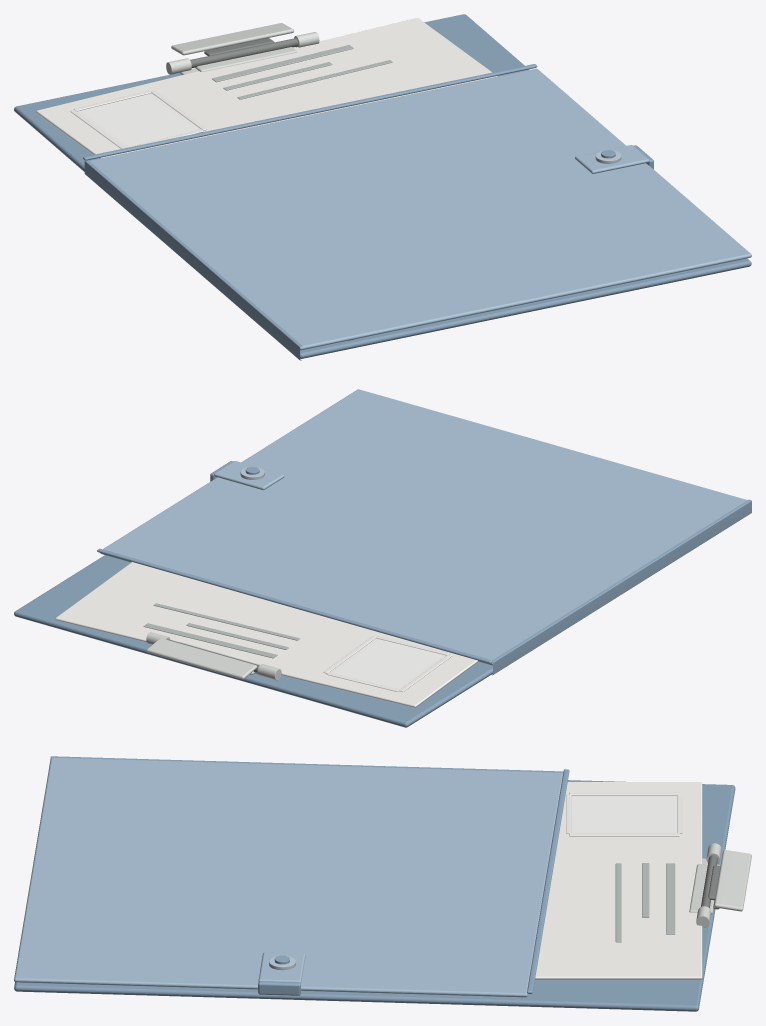
Rendered from cv_folder.glb.
The picture shows the model from 3 angles, top to bottom: view 1: azimuth 30°, elevation 25°; view 2: azimuth 150°, elevation 25°; view 3: azimuth 270°, elevation 25°; orthographic projection. The views are drawn at different scales.
Parts seen in each view (by area): view 1: Clip_Front_Sleeve, Resume_Paper, Clip_Board_Back_Panel, Folder_Left_Folded_Shell, Photo_Slot, Clip_Sleeve_Opening_Edge, Metal_Clip_Lever_Paddle, Folder_Right_Closure_Flap, Metal_Clip_Hinge_Rod, Info_Line_Name, Metal_Clip_Finger_Tab, Info_Line_Meta_01; view 2: Clip_Front_Sleeve, Resume_Paper, Clip_Board_Back_Panel, Folder_Left_Folded_Shell, Photo_Slot, Clip_Sleeve_Opening_Edge, Metal_Clip_Lever_Paddle, Folder_Right_Closure_Flap, Info_Line_Name; view 3: Clip_Front_Sleeve, Resume_Paper, Clip_Board_Back_Panel, Photo_Slot, Metal_Clip_Lever_Paddle, Clip_Sleeve_Opening_Edge, Folder_Left_Folded_Shell, Folder_Right_Closure_Flap, Info_Line_Name, Metal_Clip_Finger_Tab, Folder_Right_Closure_Side_Fold, Info_Line_Meta_01 (+3 smaller).
Part boxes in pixels (x1=…): Clip_Front_Sleeve: x1=89, y1=68, x2=751, y2=350; Resume_Paper: x1=36, y1=18, x2=497, y2=340; Clip_Board_Back_Panel: x1=14, y1=14, x2=751, y2=358; Folder_Left_Folded_Shell: x1=84, y1=160, x2=302, y2=360; Photo_Slot: x1=81, y1=94, x2=196, y2=146; Clip_Sleeve_Opening_Edge: x1=83, y1=64, x2=537, y2=160; Metal_Clip_Lever_Paddle: x1=171, y1=23, x2=293, y2=55; Folder_Right_Closure_Flap: x1=575, y1=145, x2=649, y2=173; Metal_Clip_Hinge_Rod: x1=190, y1=38, x2=298, y2=67; Info_Line_Name: x1=212, y1=45, x2=353, y2=82; Metal_Clip_Finger_Tab: x1=195, y1=47, x2=296, y2=71; Info_Line_Meta_01: x1=237, y1=60, x2=392, y2=99; Clip_Front_Sleeve: x1=100, y1=389, x2=747, y2=665; Resume_Paper: x1=55, y1=562, x2=478, y2=707; Clip_Board_Back_Panel: x1=14, y1=555, x2=492, y2=727; Folder_Left_Folded_Shell: x1=491, y1=499, x2=751, y2=675; Photo_Slot: x1=333, y1=639, x2=442, y2=688; Clip_Sleeve_Opening_Edge: x1=97, y1=548, x2=492, y2=663; Metal_Clip_Lever_Paddle: x1=146, y1=638, x2=256, y2=679; Folder_Right_Closure_Flap: x1=214, y1=461, x2=284, y2=490; Info_Line_Name: x1=143, y1=623, x2=277, y2=658; Clip_Front_Sleeve: x1=14, y1=757, x2=563, y2=997; Resume_Paper: x1=535, y1=782, x2=702, y2=979; Clip_Board_Back_Panel: x1=14, y1=780, x2=735, y2=1011; Photo_Slot: x1=572, y1=797, x2=676, y2=831; Metal_Clip_Lever_Paddle: x1=714, y1=850, x2=751, y2=911; Clip_Sleeve_Opening_Edge: x1=527, y1=769, x2=569, y2=993; Folder_Left_Folded_Shell: x1=50, y1=756, x2=563, y2=772; Folder_Right_Closure_Flap: x1=258, y1=952, x2=305, y2=983; Info_Line_Name: x1=666, y1=863, x2=675, y2=934; Metal_Clip_Finger_Tab: x1=689, y1=864, x2=720, y2=914; Folder_Right_Closure_Side_Fold: x1=258, y1=981, x2=300, y2=995; Info_Line_Meta_01: x1=615, y1=863, x2=621, y2=942.
Size of what is drawn, in the model's own units: 2.55 by 0.127 by 3.27.
